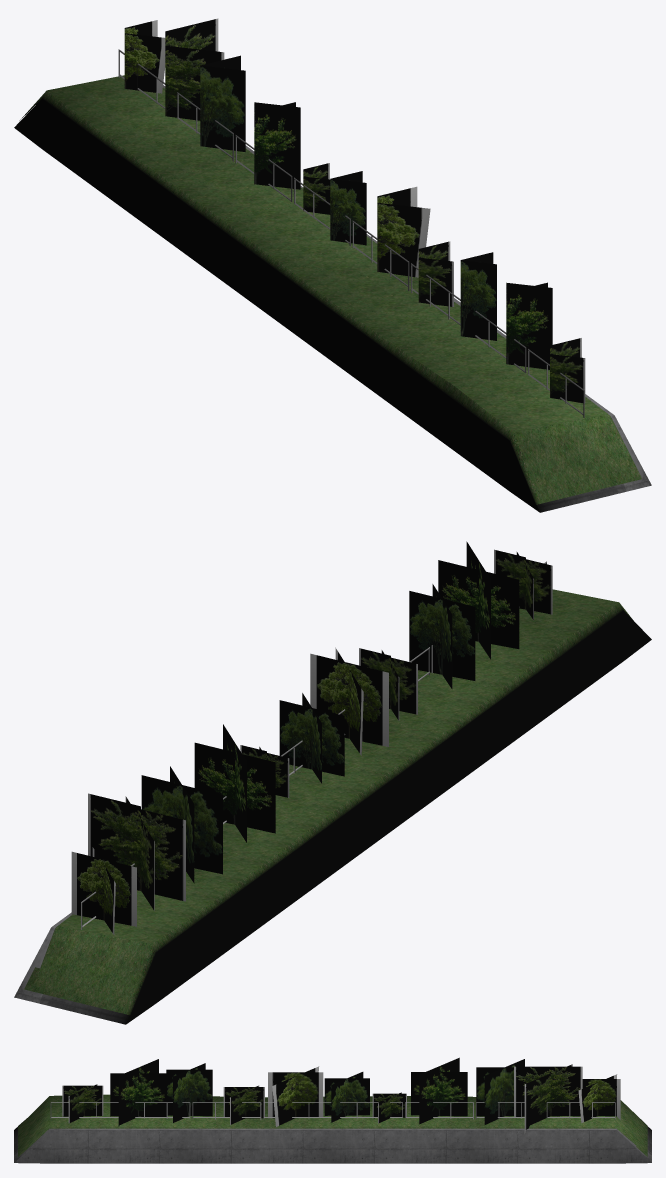
File: AMB_TREE_R.glb
3 views of the same model, one above another, from view 1: azimuth 30°, elevation 25°; view 2: azimuth 150°, elevation 25°; view 3: azimuth 270°, elevation 25° (orthographic). The views are drawn at different scales.
Parts seen in each view (by area): view 1: Left_Rord2, obj98, obj104, obj103, obj100, obj102, obj101, obj97, obj99; view 2: Left_Rord2, obj104, obj98, obj102, obj100, obj101, obj103, obj97, obj99; view 3: Left_Rord2, obj104, obj98, obj102, obj101, obj100, obj103, obj97, obj99.
Boxes of the visible parts, x1=… form: Left_Rord2: x1=14, y1=75, x2=651, y2=512; obj98: x1=460, y1=252, x2=552, y2=372; obj104: x1=118, y1=18, x2=224, y2=120; obj103: x1=177, y1=55, x2=245, y2=161; obj100: x1=352, y1=186, x2=430, y2=290; obj102: x1=235, y1=102, x2=300, y2=201; obj101: x1=294, y1=163, x2=366, y2=246; obj97: x1=528, y1=338, x2=585, y2=417; obj99: x1=411, y1=241, x2=460, y2=325; Left_Rord2: x1=14, y1=589, x2=651, y2=1024; obj104: x1=71, y1=793, x2=185, y2=935; obj98: x1=409, y1=541, x2=519, y2=689; obj102: x1=194, y1=724, x2=275, y2=842; obj100: x1=310, y1=647, x2=388, y2=755; obj101: x1=240, y1=693, x2=344, y2=797; obj103: x1=141, y1=766, x2=222, y2=883; obj97: x1=494, y1=549, x2=552, y2=620; obj99: x1=359, y1=647, x2=429, y2=720; Left_Rord2: x1=14, y1=1094, x2=651, y2=1163; obj104: x1=514, y1=1064, x2=620, y2=1133; obj98: x1=110, y1=1059, x2=212, y2=1126; obj102: x1=405, y1=1057, x2=473, y2=1124; obj101: x1=324, y1=1072, x2=406, y2=1123; obj100: x1=263, y1=1066, x2=331, y2=1126; obj103: x1=476, y1=1059, x2=524, y2=1124; obj97: x1=50, y1=1084, x2=118, y2=1123; obj99: x1=192, y1=1085, x2=264, y2=1124.
Bounding box in the file's own units: 15.08 × 16.61 × 112.
Materials: 21 (21 with a texture image).
